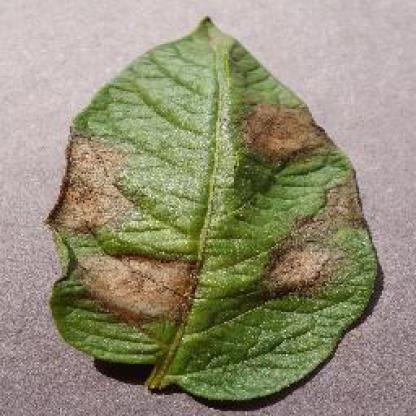bad leaf: (238, 170, 378, 308), (73, 249, 182, 340), (236, 105, 350, 184), (58, 138, 131, 223)
